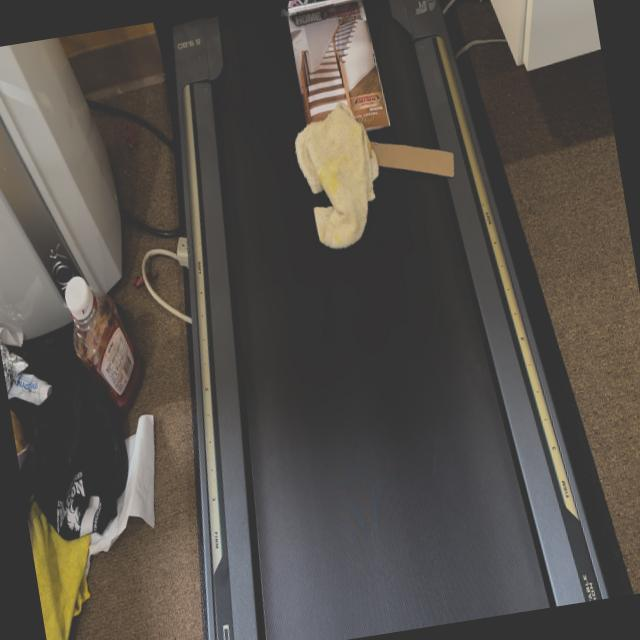Recycle: (284, 9, 388, 130), (356, 113, 458, 196)
Trash: (288, 104, 393, 258)
